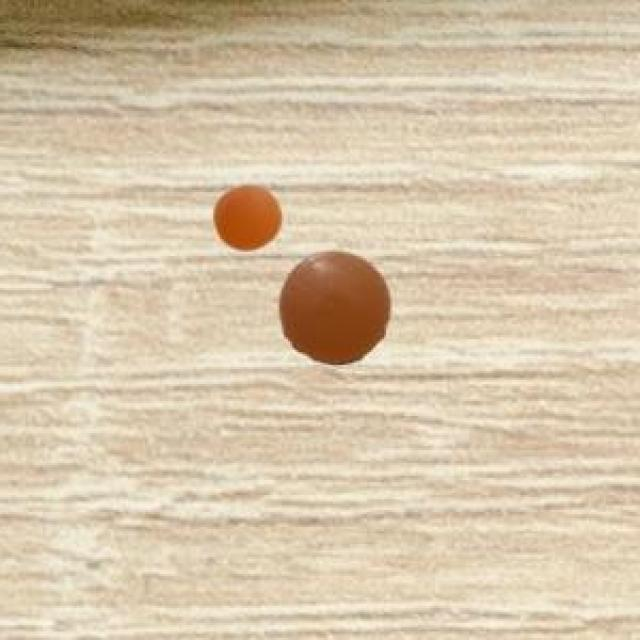Bactidol: (270, 245, 396, 385), (204, 179, 288, 252)
